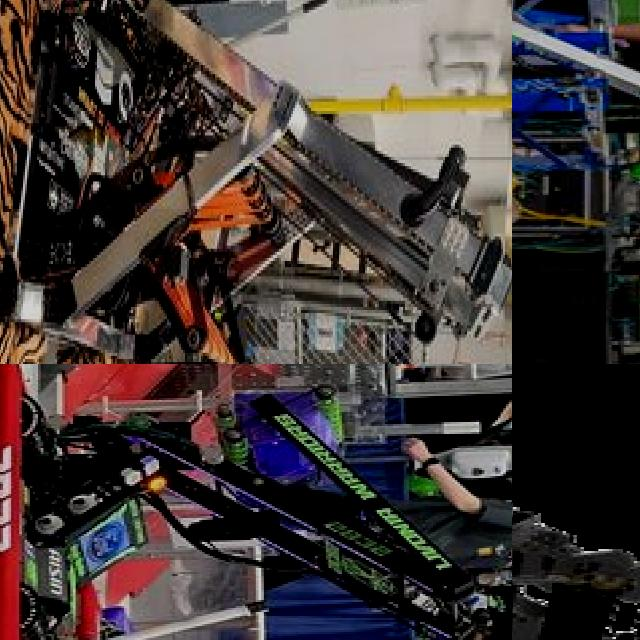FRC-Robots: (0, 0, 483, 364), (0, 380, 453, 640), (512, 364, 640, 640), (512, 0, 640, 260)
